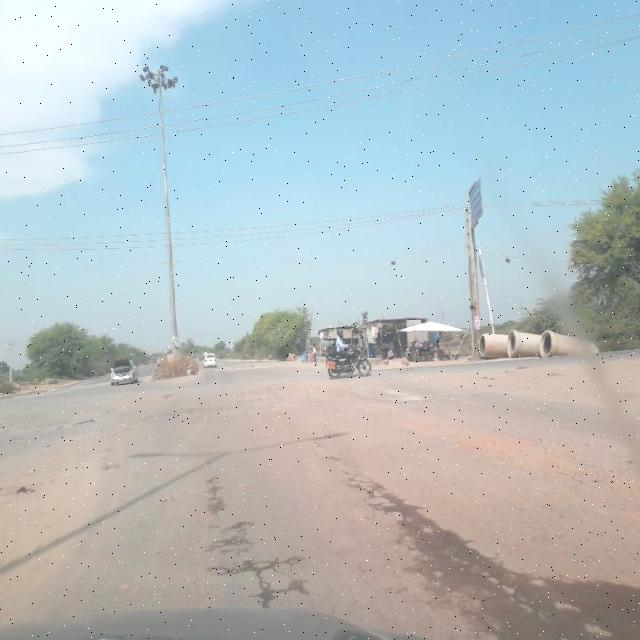D00: (188, 474, 314, 617)
D20: (335, 462, 413, 518)
